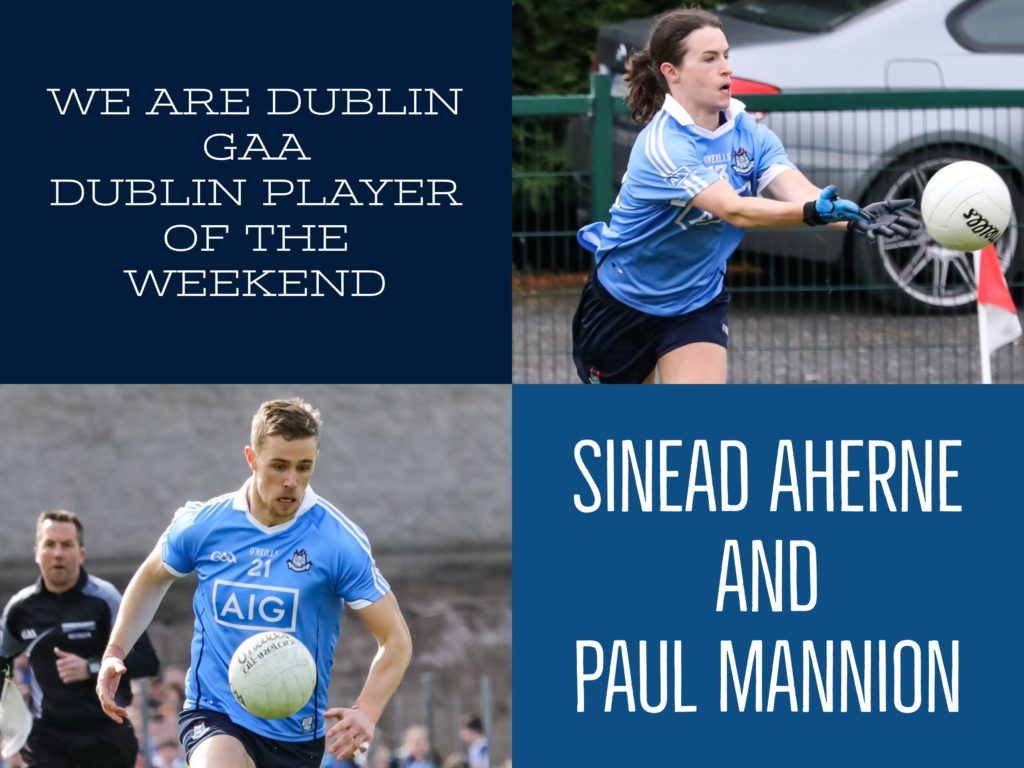ball: (908, 159, 1014, 246), (224, 627, 321, 721)
player: (136, 411, 410, 758), (606, 9, 793, 367), (16, 507, 131, 755)
